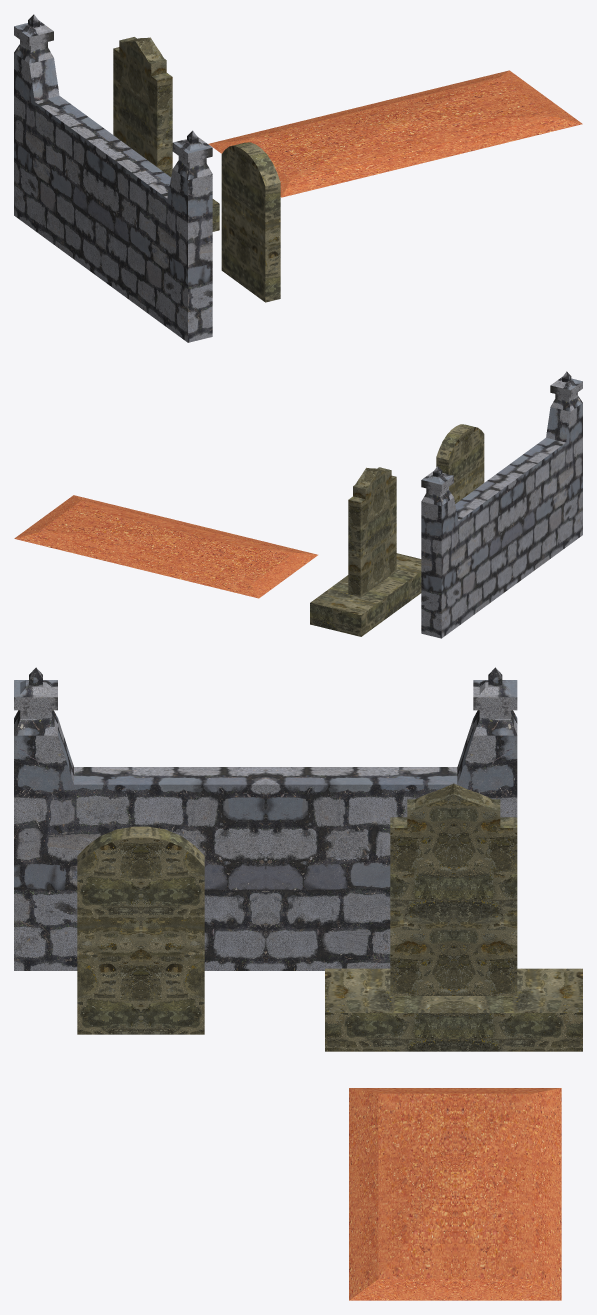
Rendered from oldwest_09.obj.
3 renders of one model, top to bottom at view 1: azimuth 30°, elevation 25°; view 2: azimuth 150°, elevation 25°; view 3: azimuth 270°, elevation 25°, orthographic. The views are drawn at different scales.
Parts seen in each view (by area): view 1: Cube.105, Cube.107, Cube.106, Cube.104; view 2: Cube.105, Cube.107, Cube.104, Cube.106; view 3: Cube.105, Cube.107, Cube.104, Cube.106.
Boxes of the visible parts, box(x1,y1,x2,y2) form: Cube.105: box(14, 14, 212, 342); Cube.107: box(208, 70, 582, 197); Cube.106: box(221, 142, 280, 302); Cube.104: box(113, 37, 219, 231); Cube.105: box(421, 371, 582, 638); Cube.107: box(14, 495, 317, 598); Cube.104: box(310, 467, 421, 636); Cube.106: box(436, 424, 484, 503); Cube.105: box(14, 667, 517, 970); Cube.107: box(349, 1088, 561, 1300); Cube.104: box(325, 783, 582, 1051); Cube.106: box(77, 826, 204, 1034).
Bounding box in the file's own units: 3.39 × 1.29 × 2.26.
3 materials, 3 textured.
